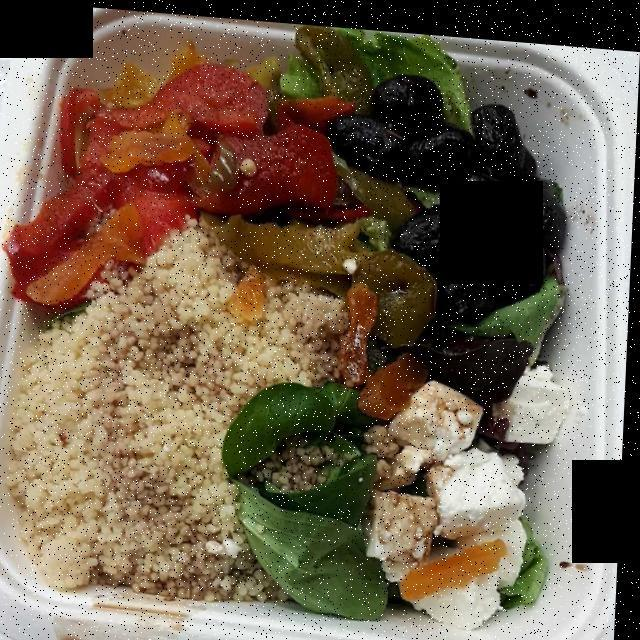bell-pepper: (21, 24, 434, 322)
black-olives: (337, 61, 568, 330)
cheese: (365, 371, 559, 620)
couscous: (13, 232, 364, 621)
salad: (81, 261, 445, 594)
spinach: (185, 31, 581, 612)
